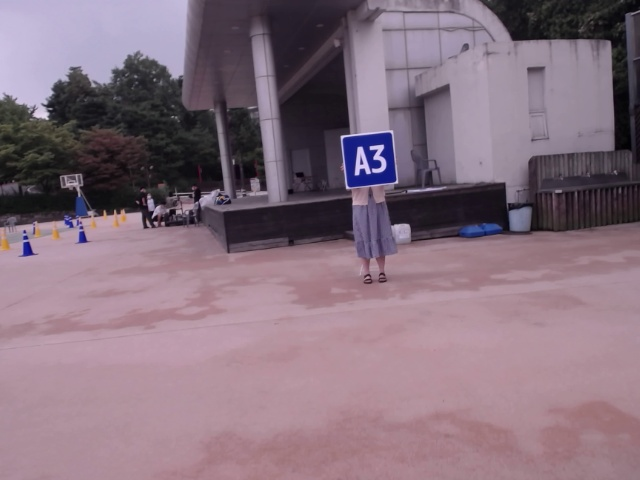delivery_a3: (341, 131, 398, 189)
